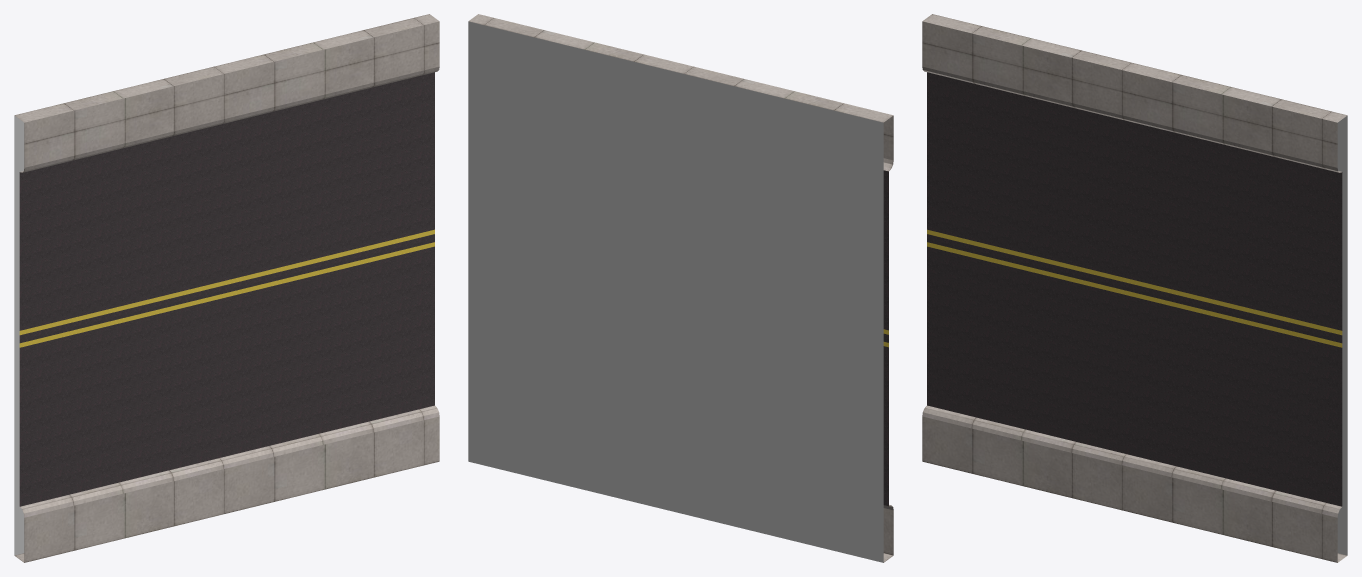
File: road.dae
3 renders of one model, left to right at view 1: azimuth 30°, elevation 25°; view 2: azimuth 150°, elevation 25°; view 3: azimuth 330°, elevation 25°, orthographic.
Visible parts, largest first — view 1: node; view 2: node; view 3: node.
Part boxes in pixels (<box>): node: <box>14,14,439,562</box>; node: <box>468,14,893,562</box>; node: <box>922,14,1347,562</box>.
Bounding box in the file's own units: 249 × 252 × 10.47.
4 materials, 3 textured.
